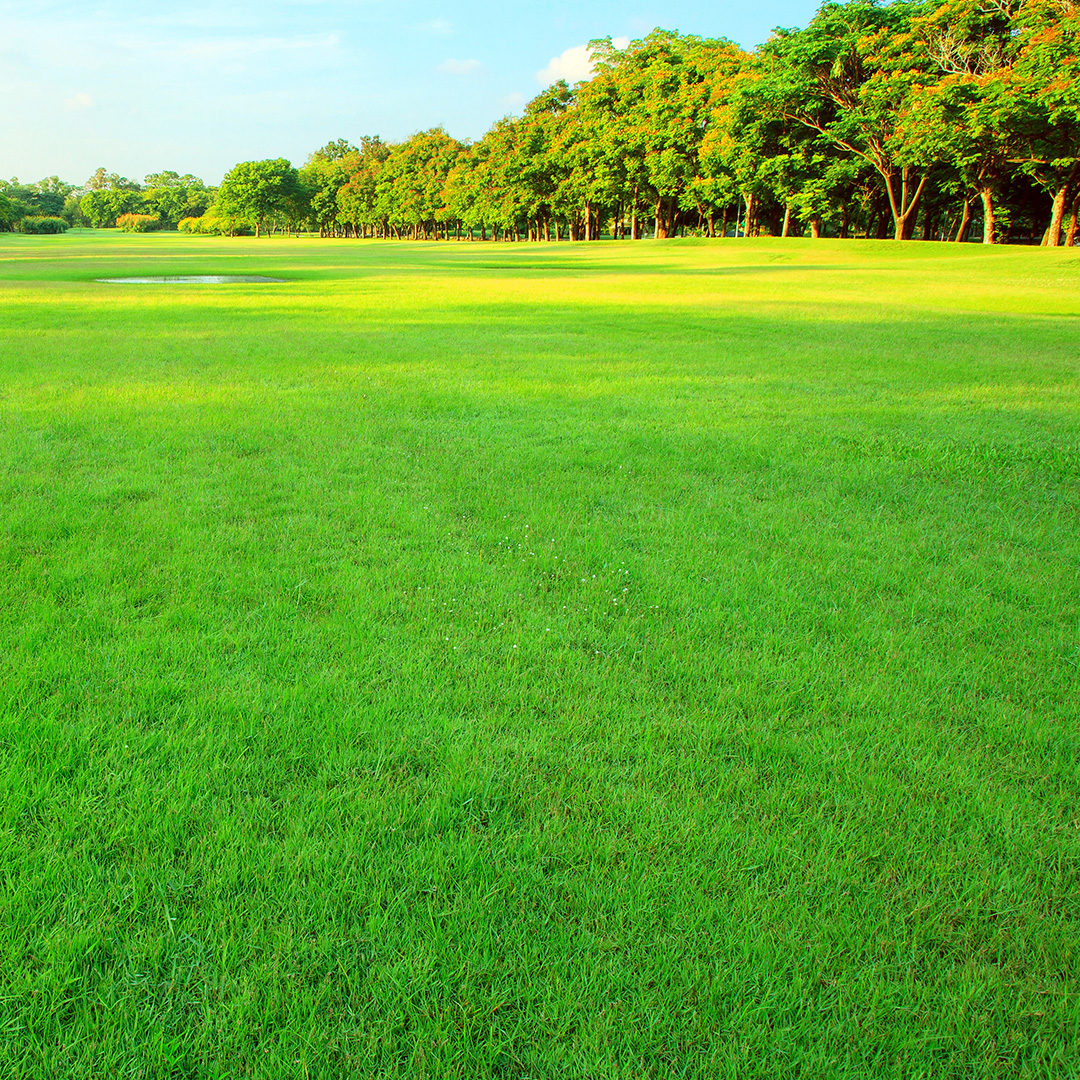grass: (5, 251, 1080, 1080)
